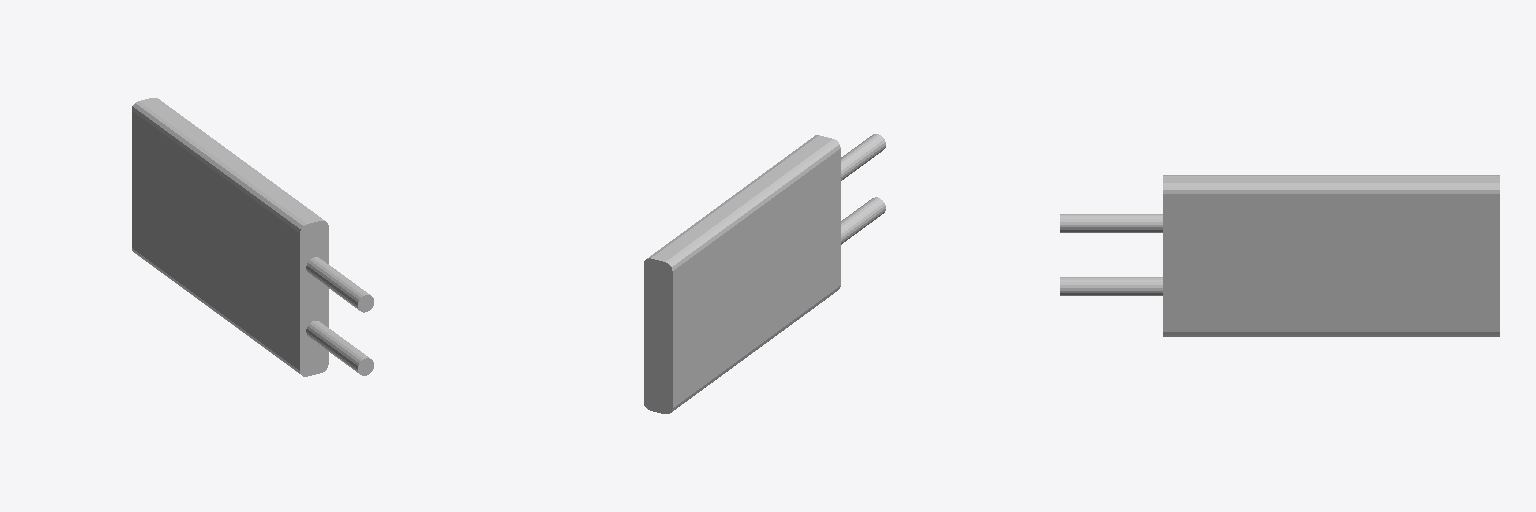
Rendered from robotHand_med.obj.
3 views of the same model, side by side, from view 1: azimuth 30°, elevation 25°; view 2: azimuth 150°, elevation 25°; view 3: azimuth 270°, elevation 25° (orthographic).
Visible parts, largest first — view 1: robotHand1:pCube5 robotHand1:polySurface2 robotHand1:polySurface, robotHand1:pCube5 robotHand1:polySurface3 robotHand1:polySurface, robotHand1:pCube5 robotHand1:polySurface4 robotHand1:polySurface; view 2: robotHand1:pCube5 robotHand1:polySurface2 robotHand1:polySurface, robotHand1:pCube5 robotHand1:polySurface3 robotHand1:polySurface, robotHand1:pCube5 robotHand1:polySurface4 robotHand1:polySurface; view 3: robotHand1:pCube5 robotHand1:polySurface2 robotHand1:polySurface, robotHand1:pCube5 robotHand1:polySurface3 robotHand1:polySurface, robotHand1:pCube5 robotHand1:polySurface4 robotHand1:polySurface.
Part boxes in pixels (x1,y1,x2,y2): robotHand1:pCube5 robotHand1:polySurface2 robotHand1:polySurface: (132,98,328,376); robotHand1:pCube5 robotHand1:polySurface3 robotHand1:polySurface: (306,257,373,312); robotHand1:pCube5 robotHand1:polySurface4 robotHand1:polySurface: (306,321,373,375); robotHand1:pCube5 robotHand1:polySurface2 robotHand1:polySurface: (644,135,840,413); robotHand1:pCube5 robotHand1:polySurface3 robotHand1:polySurface: (841,134,885,180); robotHand1:pCube5 robotHand1:polySurface4 robotHand1:polySurface: (841,197,885,244); robotHand1:pCube5 robotHand1:polySurface2 robotHand1:polySurface: (1163,175,1499,336); robotHand1:pCube5 robotHand1:polySurface3 robotHand1:polySurface: (1060,214,1162,232); robotHand1:pCube5 robotHand1:polySurface4 robotHand1:polySurface: (1060,277,1162,295).
Size of the model in its own units: 0.1 by 0.5 by 1.31.